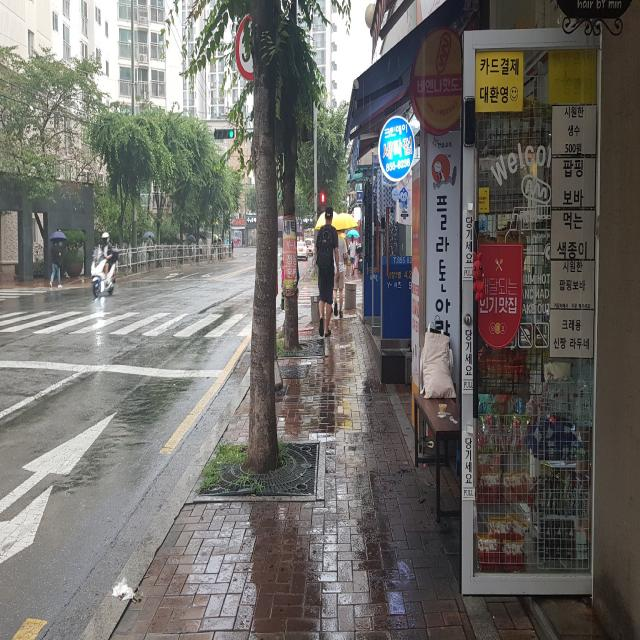빨간불: (321, 192, 325, 212)
횡단보도: (297, 284, 363, 307)
